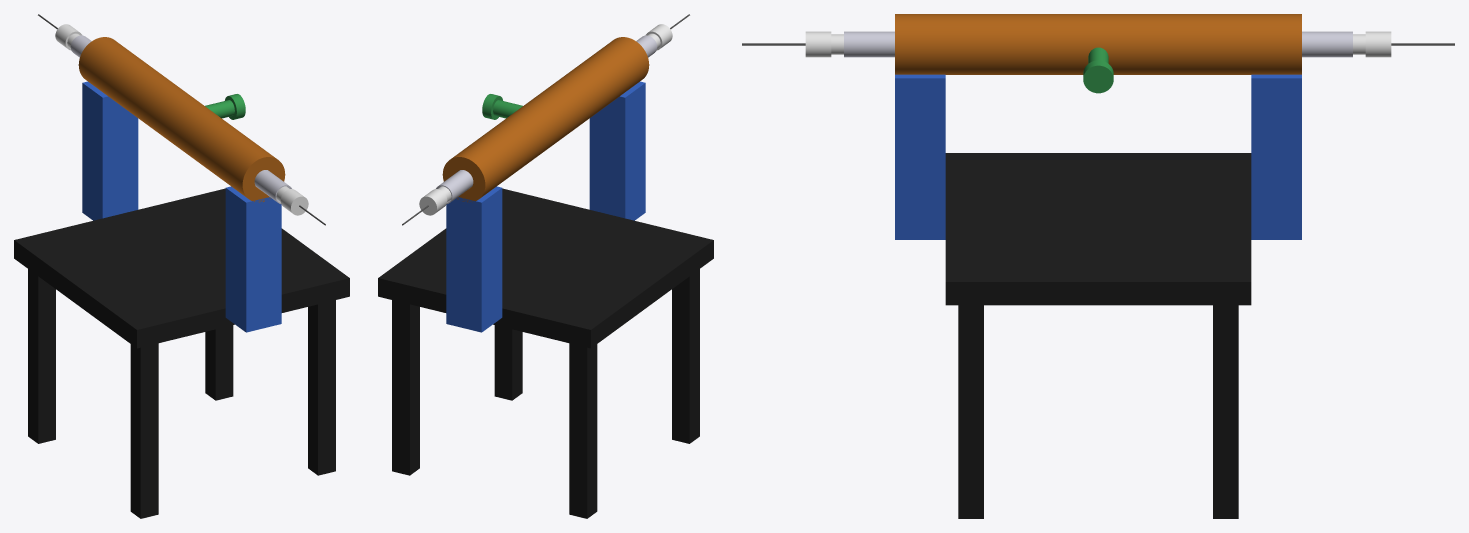
The model's file is integrated_tube_stand.gltf.
3 views of the same model, side by side, from view 1: azimuth 30°, elevation 25°; view 2: azimuth 150°, elevation 25°; view 3: azimuth 270°, elevation 25° (orthographic). The views are drawn at different scales.
Parts seen in each view (by area): view 1: Optical_Table, V_Mounts, Superconducting_Magnet, HV_Ceramics, Anode_Shell, Neutral_Beam_Injector; view 2: Optical_Table, V_Mounts, Superconducting_Magnet, HV_Ceramics, Anode_Shell, Neutral_Beam_Injector; view 3: Optical_Table, Superconducting_Magnet, V_Mounts, Anode_Shell, HV_Ceramics, Neutral_Beam_Injector.
Part boxes in pixels (<box>): Optical_Table: <box>14,188,349,518</box>; V_Mounts: <box>82,81,281,332</box>; Superconducting_Magnet: <box>78,37,285,202</box>; HV_Ceramics: <box>55,24,308,215</box>; Anode_Shell: <box>70,35,291,203</box>; Neutral_Beam_Injector: <box>205,94,245,119</box>; Optical_Table: <box>378,188,713,518</box>; V_Mounts: <box>446,81,645,332</box>; Superconducting_Magnet: <box>442,37,649,202</box>; HV_Ceramics: <box>419,24,672,215</box>; Anode_Shell: <box>436,35,657,203</box>; Neutral_Beam_Injector: <box>482,94,522,119</box>; Optical_Table: <box>945,153,1251,518</box>; Superconducting_Magnet: <box>895,14,1301,74</box>; V_Mounts: <box>895,74,1301,239</box>; Anode_Shell: <box>844,31,1352,57</box>; HV_Ceramics: <box>805,31,1391,57</box>; Neutral_Beam_Injector: <box>1083,47,1113,93</box>.
Size of the model in its own units: 1.2 by 1.92 by 2.8.
